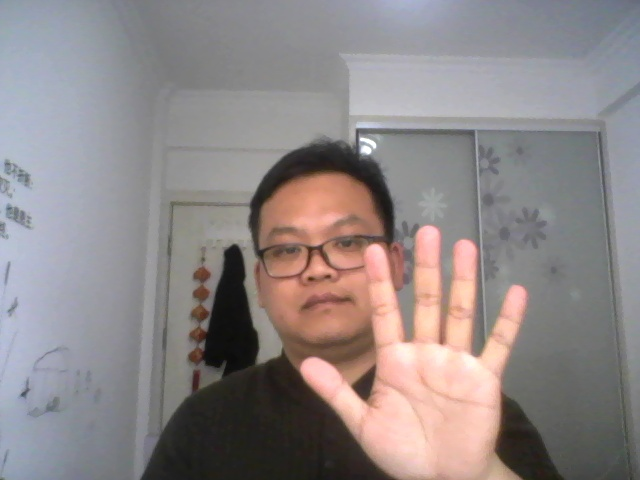Hello: (289, 219, 541, 480)
